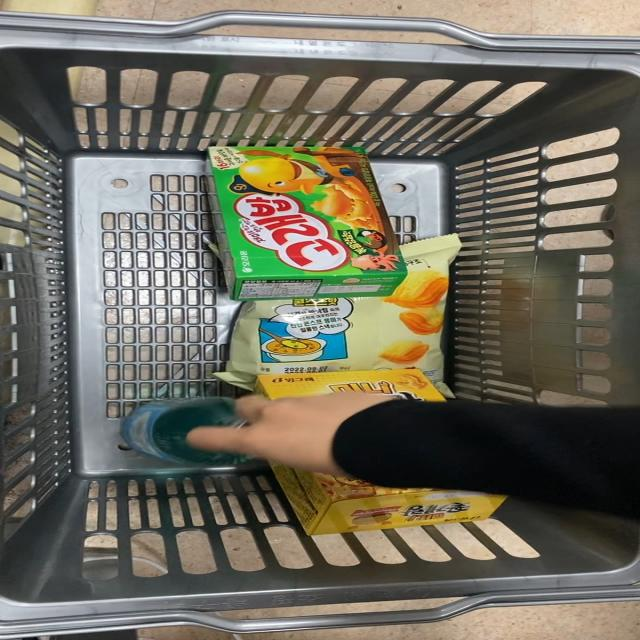ggobukchip: (191, 276, 478, 382)
goraebob: (196, 141, 402, 298)
jinro: (111, 398, 263, 466)
minicrab: (297, 459, 523, 539)
